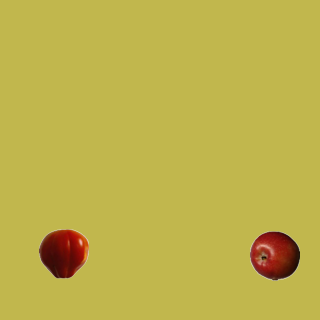Apple Braeburn: (249, 230, 299, 280)
Tomato 1: (38, 228, 88, 278)
